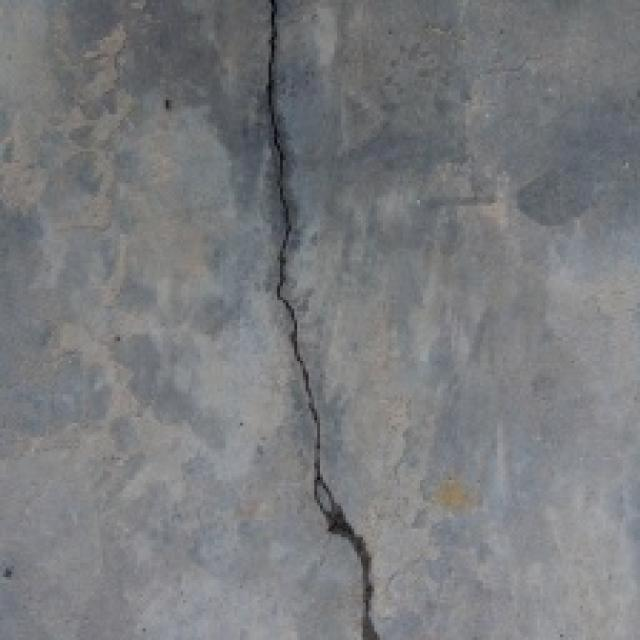crack: (242, 0, 406, 636)
